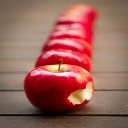apple: (24, 50, 95, 114)
